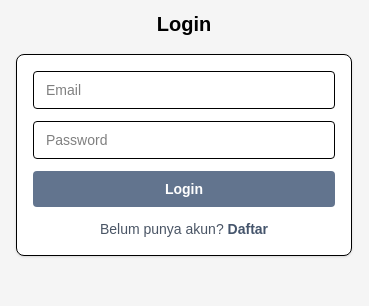
FormLogin › nolak kalo email gak ada tanda @
Type "emailnyangaco" into the field with placeholder "Email" at (184, 90), box [33,71,335,109]
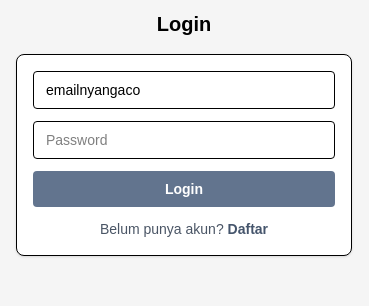
Type "rahasia123" into the password field with placeholder "Password" at (184, 140), box [33,121,335,159]
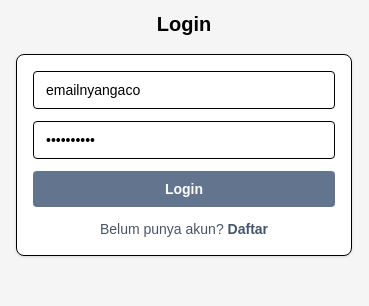
Click the button "Login" at (184, 189), box [33,171,335,207]
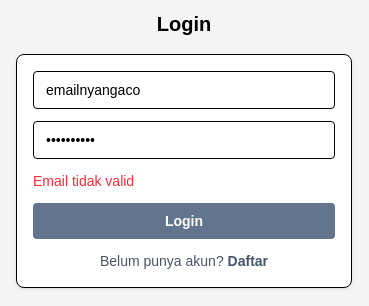
Expected: the text "Email tidak valid" is shown, [33,173,134,189]
